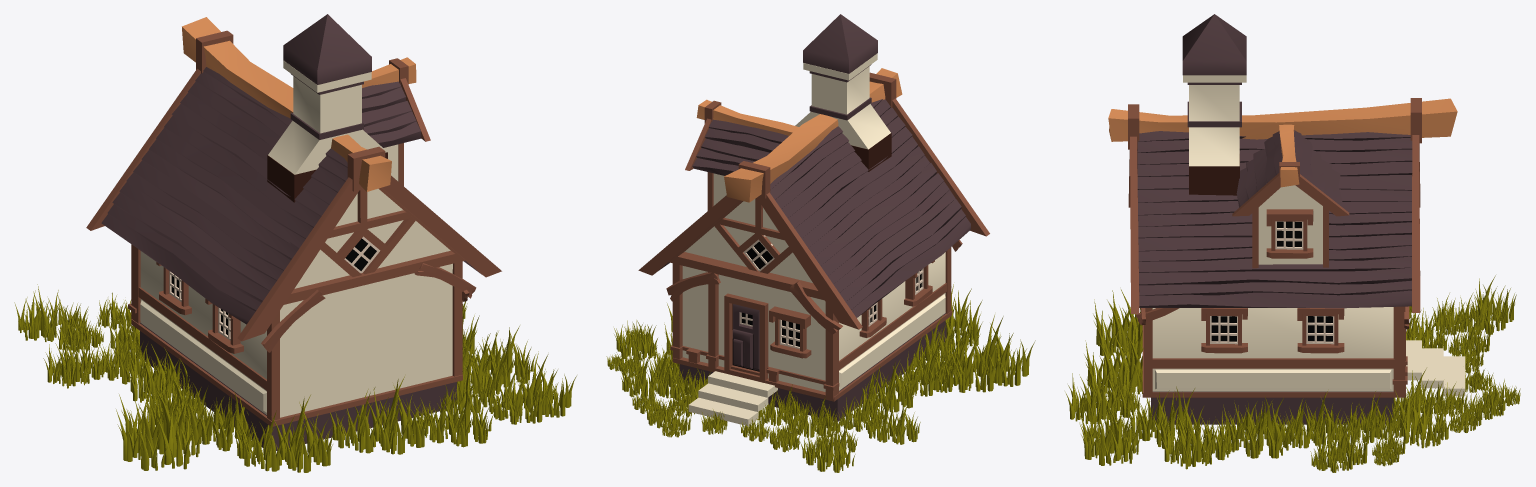
The model's file is low_poly_stylized_home.glb.
The picture shows the model from 3 angles, left to right: view 1: azimuth 30°, elevation 25°; view 2: azimuth 150°, elevation 25°; view 3: azimuth 270°, elevation 25°; orthographic projection. The views are drawn at different scales.
Visible parts, largest first — view 1: Object_2, Object_16, Object_3, Object_15, Object_10, Object_9, Object_17, Object_6, Object_14, Object_12, Object_11; view 2: Object_2, Object_6, Object_15, Object_10, Object_12, Object_14, Object_16, Object_9, Object_5, Object_7, Object_17, Object_11 (+2 smaller); view 3: Object_2, Object_4, Object_3, Object_9, Object_6, Object_16, Object_17, Object_5, Object_12, Object_11, Object_7, Object_13 (+2 smaller).
Part boxes in pixels (x1=…): Object_2: x1=86, y1=14, x2=501, y2=470; Object_16: x1=233, y1=376, x2=428, y2=472; Object_3: x1=442, y1=326, x2=535, y2=414; Object_15: x1=143, y1=375, x2=253, y2=451; Object_10: x1=43, y1=336, x2=150, y2=388; Object_9: x1=462, y1=301, x2=576, y2=424; Object_17: x1=413, y1=385, x2=493, y2=447; Object_6: x1=14, y1=284, x2=88, y2=341; Object_14: x1=127, y1=344, x2=187, y2=403; Object_12: x1=97, y1=292, x2=139, y2=353; Object_11: x1=56, y1=316, x2=103, y2=353; Object_2: x1=638, y1=14, x2=1035, y2=425; Object_6: x1=620, y1=345, x2=855, y2=472; Object_15: x1=893, y1=315, x2=965, y2=396; Object_10: x1=839, y1=384, x2=920, y2=444; Object_12: x1=768, y1=396, x2=842, y2=452; Object_14: x1=667, y1=361, x2=914, y2=417; Object_16: x1=939, y1=284, x2=982, y2=351; Object_9: x1=614, y1=320, x2=657, y2=361; Object_5: x1=652, y1=340, x2=711, y2=406; Object_7: x1=645, y1=398, x2=691, y2=437; Object_17: x1=757, y1=384, x2=809, y2=425; Object_11: x1=631, y1=389, x2=857, y2=452; Object_2: x1=1108, y1=14, x2=1465, y2=424; Object_4: x1=1216, y1=391, x2=1348, y2=458; Object_3: x1=1127, y1=386, x2=1235, y2=469; Object_9: x1=1079, y1=405, x2=1371, y2=472; Object_6: x1=1385, y1=275, x2=1516, y2=448; Object_16: x1=1084, y1=289, x2=1143, y2=399; Object_17: x1=1065, y1=323, x2=1437, y2=426; Object_5: x1=1337, y1=368, x2=1444, y2=443; Object_12: x1=1407, y1=308, x2=1492, y2=356; Object_11: x1=1432, y1=293, x2=1482, y2=432; Object_7: x1=1463, y1=377, x2=1520, y2=420; Object_13: x1=1452, y1=339, x2=1493, y2=392.
Bounding box in the file's own units: 2.52 × 2.28 × 2.57.
Materials: 1 (1 with a texture image).
